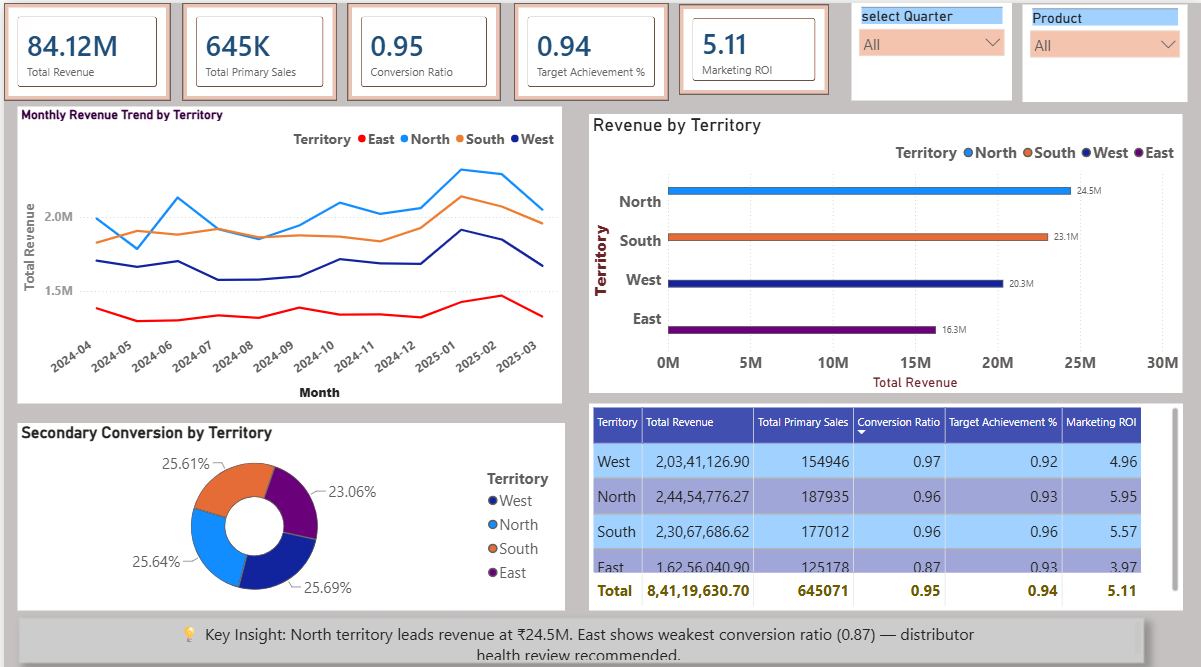

The dashboard page shown, as its layout file describes it:
{"tool":"powerbi","page":{"name":"Executive Overview","canvas":[1600,900],"ordinal":0},"visuals":[{"type":"cardVisual","fields":{"Data":["pharma_sales.Conversion Ratio"]},"box":[458,0,204,130],"z":0},{"type":"cardVisual","fields":{"Data":["pharma_sales.Target Achievement %"]},"box":[680,0,206,130],"z":1000},{"type":"cardVisual","fields":{"Data":["pharma_sales.Marketing ROI"]},"box":[900,2,200,120],"z":2000},{"type":"cardVisual","fields":{"Data":["pharma_sales.Total Revenue"]},"box":[0,0,222,130],"z":3000},{"type":"lineChart","title":"Monthly Revenue Trend by Territory","fields":{"Category":["pharma_sales.Month"],"Y":["pharma_sales.Total Revenue"],"Series":["pharma_sales.Territory"]},"box":[18,138,726,396],"z":4000},{"type":"clusteredBarChart","title":" Revenue by Territory ","fields":{"Category":["pharma_sales.Territory"],"Y":["pharma_sales.Total Revenue"],"Series":["pharma_sales.Territory"]},"box":[780,148.9,791.1,372.2],"z":5000},{"type":"donutChart","title":"Secondary Conversion by Territory","fields":{"Category":["pharma_sales.Territory"],"Y":["pharma_sales.Conversion Ratio"]},"box":[18,560,730,250],"z":6000},{"type":"slicer","fields":{"Values":["pharma_sales.Quarter"]},"box":[1130,0,214,130],"z":7000},{"type":"slicer","fields":{"Values":["pharma_sales.Product"]},"box":[1358,2,220,130],"z":8000},{"type":"cardVisual","fields":{"Data":["pharma_sales.Total Primary Sales"]},"box":[238,0,206,130],"z":9000},{"type":"tableEx","fields":{"Values":["pharma_sales.Territory","pharma_sales.Total Revenue","pharma_sales.Total Primary Sales","pharma_sales.Conversion Ratio","pharma_sales.Target Achievement %","pharma_sales.Marketing ROI"]},"box":[780,533.3,791.1,275.6],"z":10000},{"type":"textbox","box":[20,820,1500,60],"z":11000}]}

Visuals, with their boxes in screenshot pixels (x1, y1, x2, y2), scaled from the page's 1600x900 canvas onto the 1201x667 screenshot:
cardVisual - pharma_sales.Conversion Ratio: l=344, t=0, r=497, b=96
cardVisual - pharma_sales.Target Achievement %: l=510, t=0, r=665, b=96
cardVisual - pharma_sales.Marketing ROI: l=676, t=1, r=826, b=90
cardVisual - pharma_sales.Total Revenue: l=0, t=0, r=167, b=96
"Monthly Revenue Trend by Territory" lineChart: l=14, t=102, r=558, b=396
" Revenue by Territory " clusteredBarChart: l=585, t=110, r=1179, b=386
"Secondary Conversion by Territory" donutChart: l=14, t=415, r=561, b=600
slicer - pharma_sales.Quarter: l=848, t=0, r=1009, b=96
slicer - pharma_sales.Product: l=1019, t=1, r=1184, b=98
cardVisual - pharma_sales.Total Primary Sales: l=179, t=0, r=333, b=96
tableEx - pharma_sales.Territory x pharma_sales.Total Revenue: l=585, t=395, r=1179, b=599
textbox: l=15, t=608, r=1141, b=652
